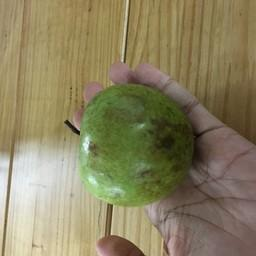Bad_apple: (76, 77, 195, 210)
